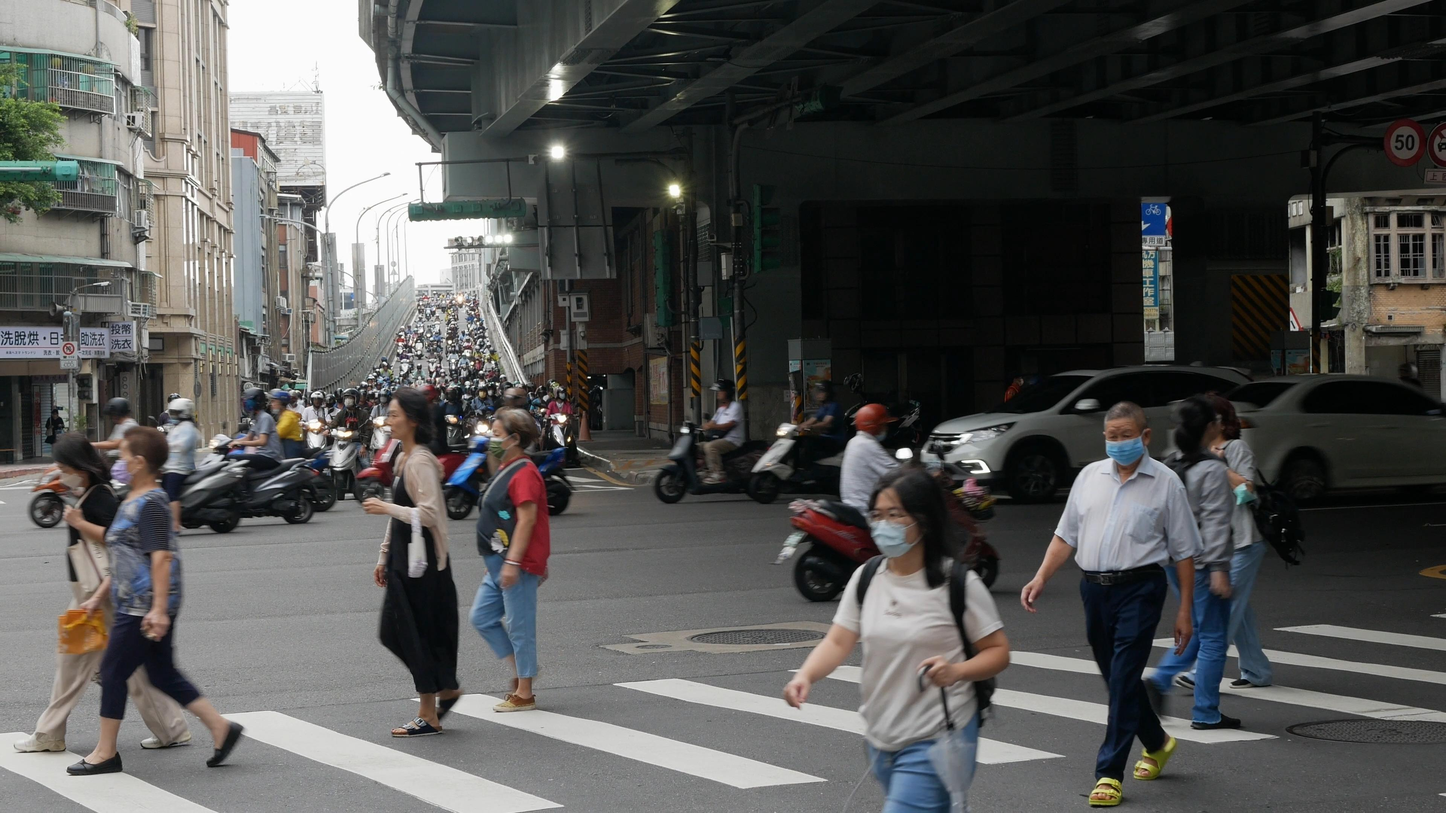driver: (769, 404, 1001, 602), (109, 398, 250, 533), (443, 387, 577, 520), (198, 387, 319, 524), (654, 378, 771, 504), (29, 397, 141, 528), (748, 380, 848, 504), (318, 388, 373, 501), (543, 385, 581, 468), (295, 391, 334, 450), (441, 387, 475, 445), (369, 388, 392, 456)
helmet: (856, 403, 900, 443), (102, 397, 132, 425), (166, 398, 195, 426), (241, 387, 266, 418), (709, 379, 736, 402), (810, 380, 836, 403), (268, 391, 291, 415), (502, 387, 528, 408), (341, 388, 360, 409), (377, 388, 392, 410), (310, 391, 324, 409), (554, 385, 567, 401), (445, 387, 457, 401), (477, 384, 488, 399)
no-helmet: (866, 464, 956, 589), (51, 432, 112, 490), (110, 425, 168, 485), (1102, 401, 1151, 466), (488, 406, 542, 461), (384, 384, 433, 444), (1172, 395, 1221, 455), (52, 409, 59, 418)
